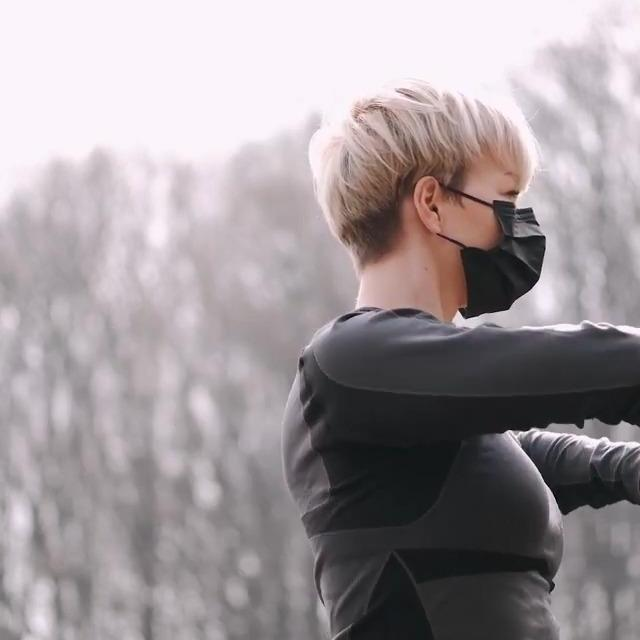Mask: (456, 200, 546, 315)
NO-Hardhat: (312, 81, 521, 175)
NO-Safety Vest: (281, 324, 561, 640)
Person: (274, 80, 640, 640)
